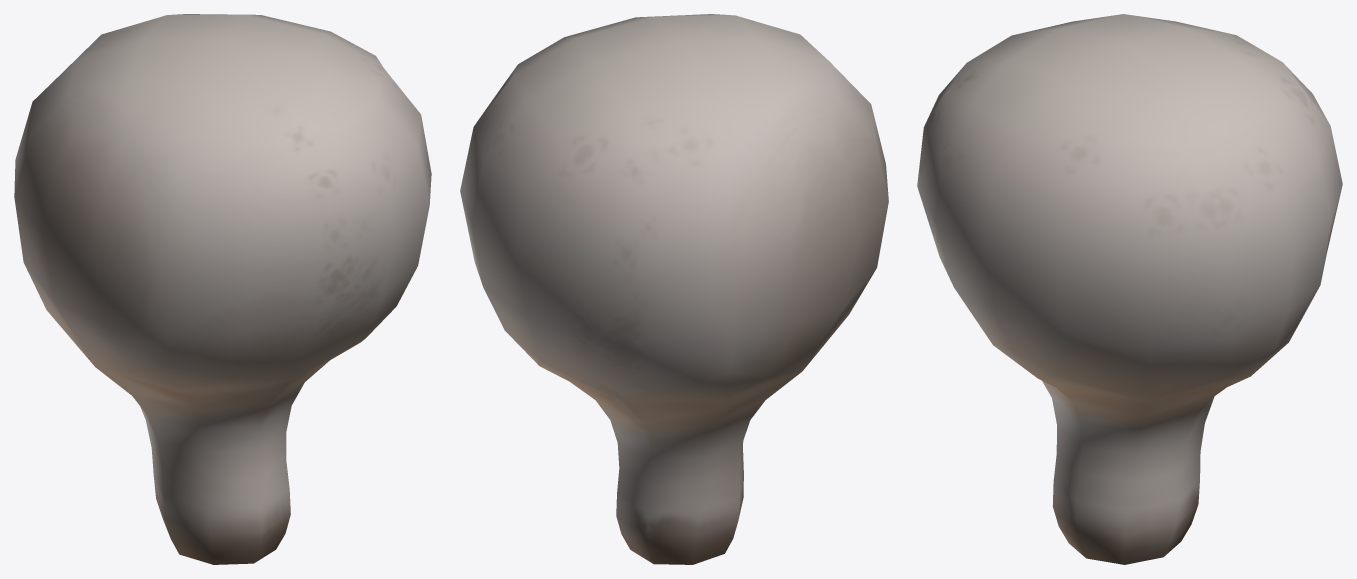
The model's file is PuffBall_002.fbx.
The picture shows the model from 3 angles, left to right: view 1: azimuth 30°, elevation 25°; view 2: azimuth 150°, elevation 25°; view 3: azimuth 270°, elevation 25°; orthographic projection.
Parts seen in each view (by area): view 1: BuffBall_02_LOD0; view 2: BuffBall_02_LOD0; view 3: BuffBall_02_LOD0.
Part boxes in pixels (bbox=[...]): BuffBall_02_LOD0: bbox=[14, 14, 431, 564]; BuffBall_02_LOD0: bbox=[460, 14, 888, 564]; BuffBall_02_LOD0: bbox=[917, 14, 1342, 564].
Size of what is drawn, in the model's own units: 5.97 by 7.78 by 6.01.
